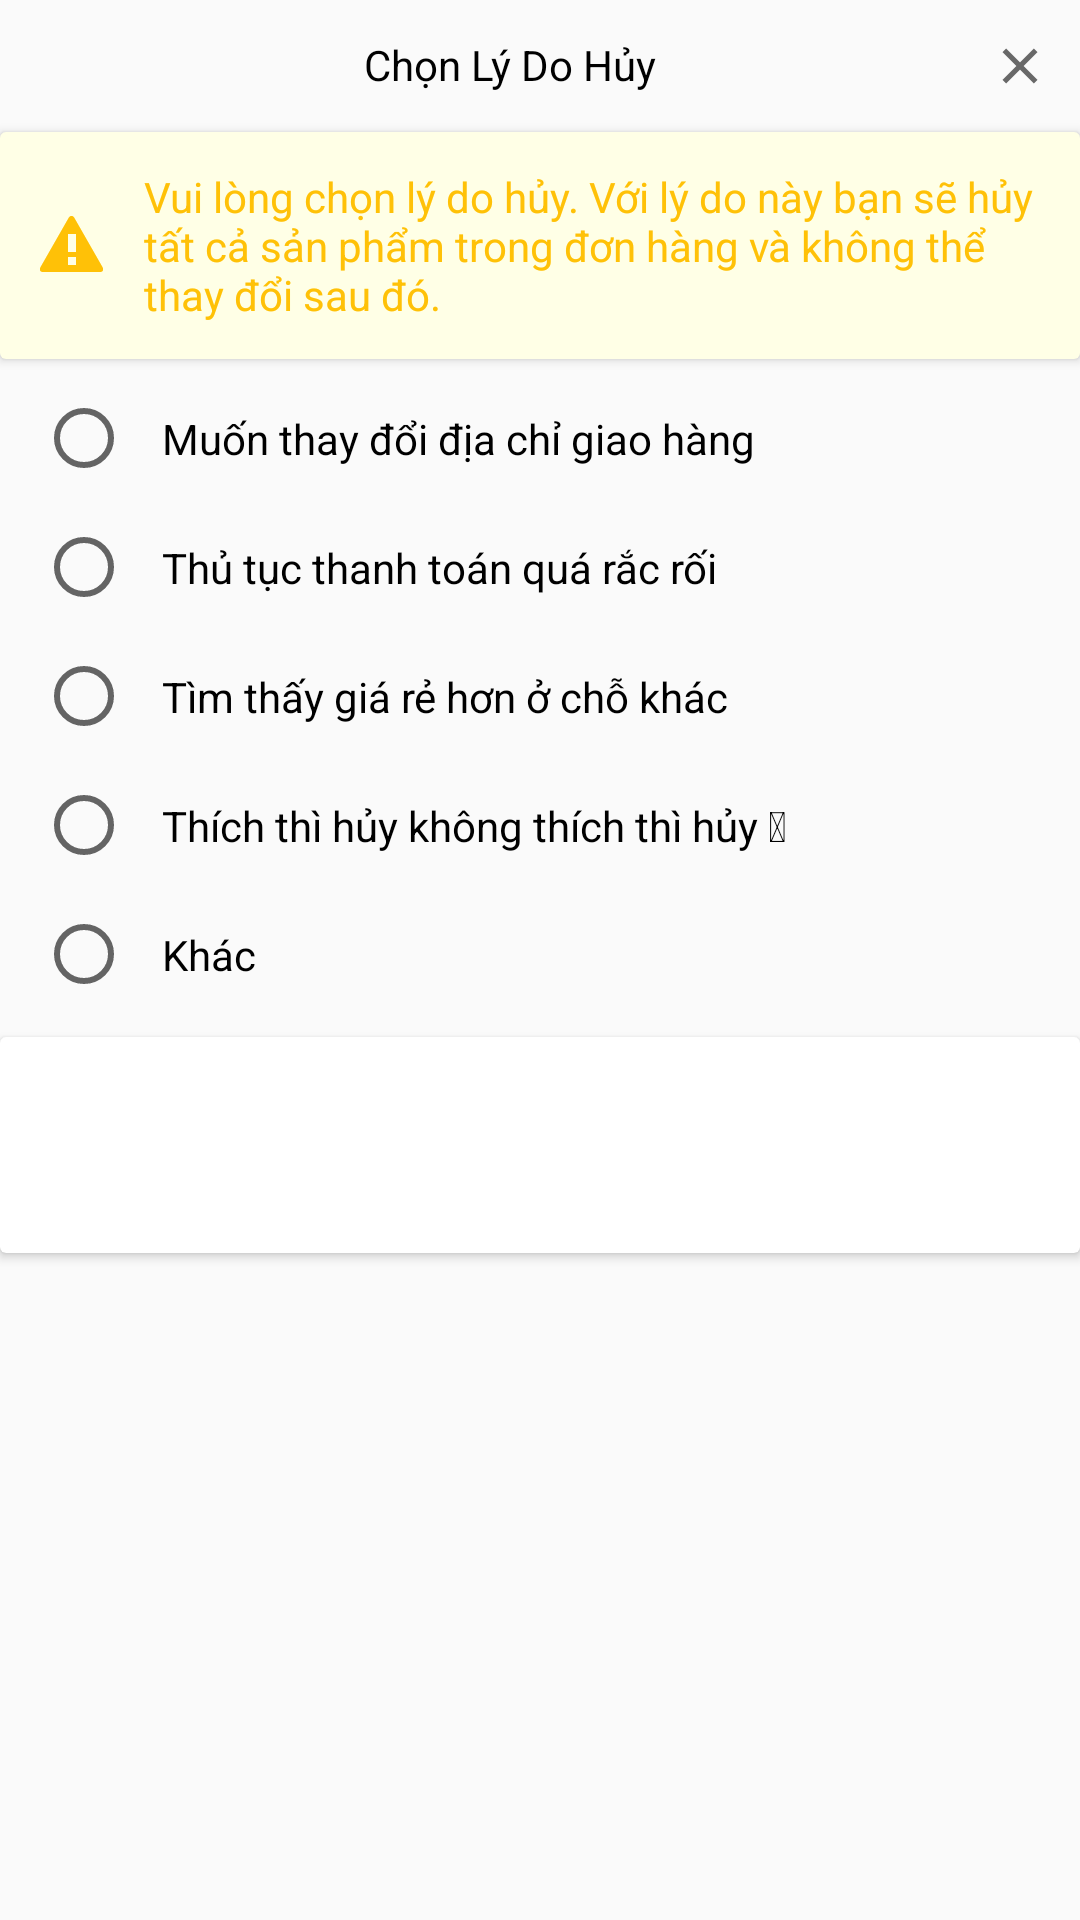

Screen size 1080 × 1920. Icon name, then its box in pixels as (x1, y1, x2, y2):
close: (1002, 48, 1038, 84)
